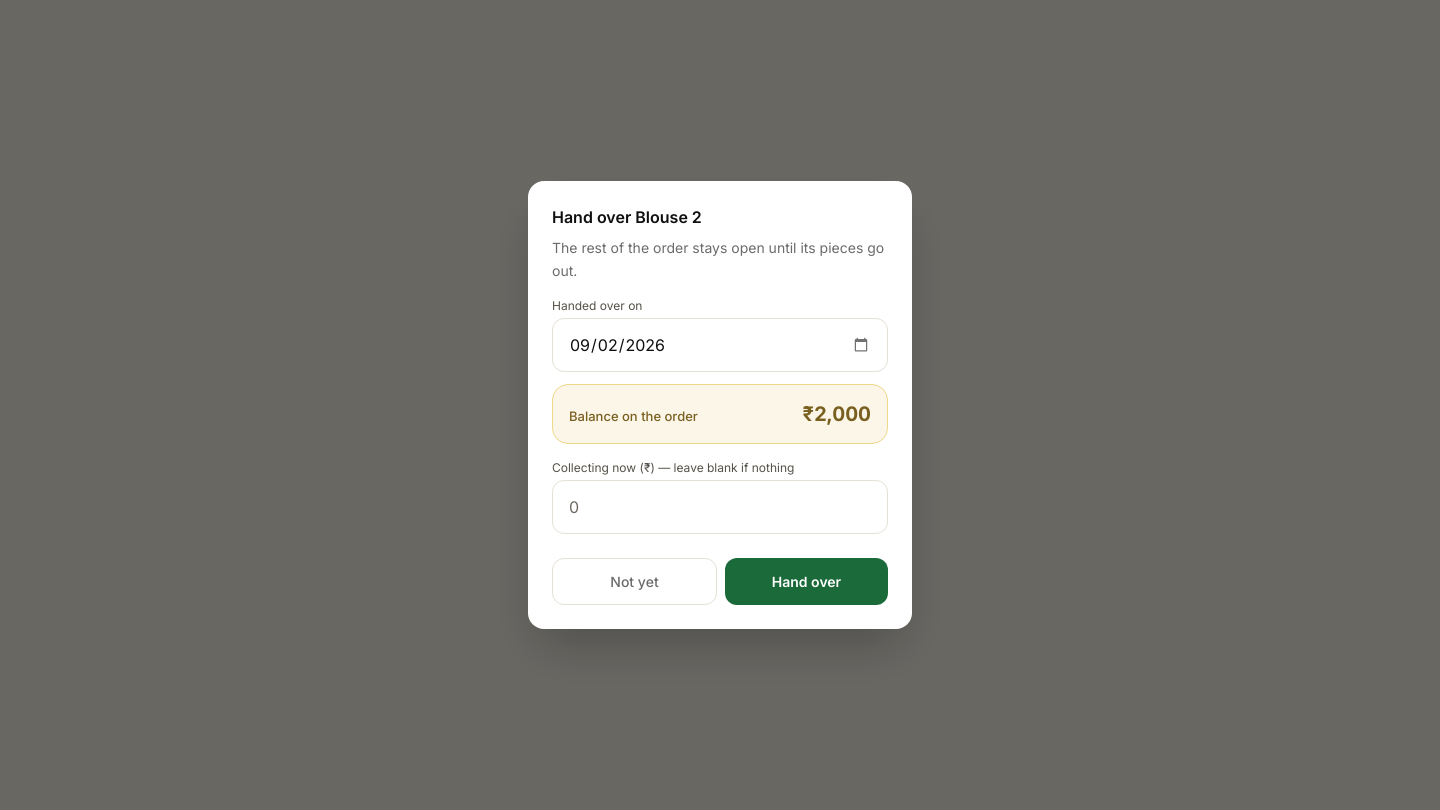
it: DeliverPieceDialog › the hand-over date › refuses an empty date
Clear the date field labelled "Handed over on" at (720, 345), box [552,318,888,372]
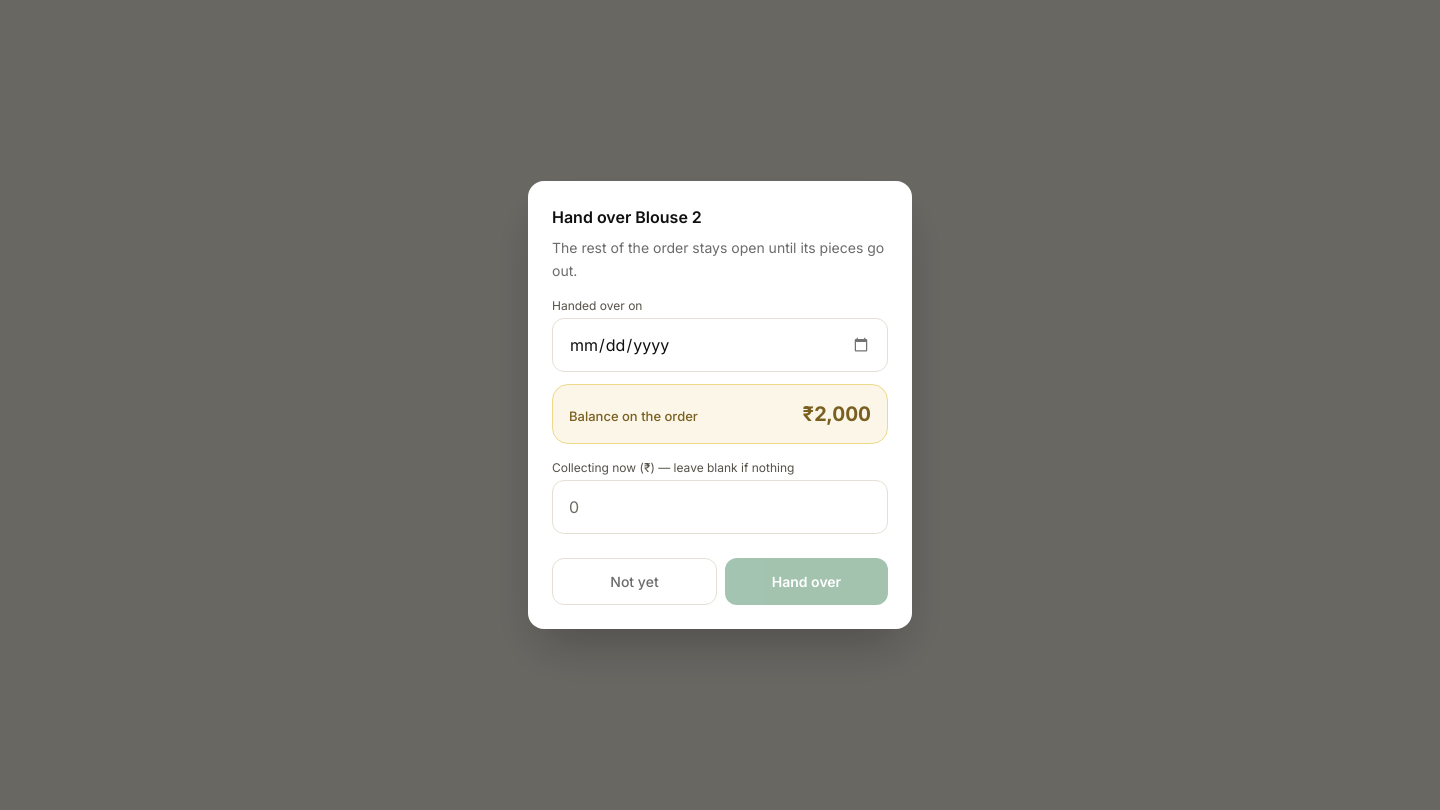
Result: the button "Hand over" is disabled at [725,558,888,605]
